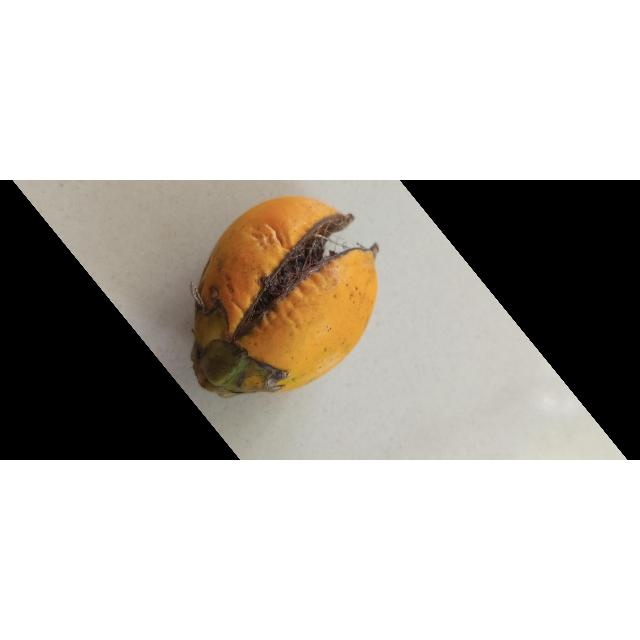damaged: (191, 197, 379, 398)
